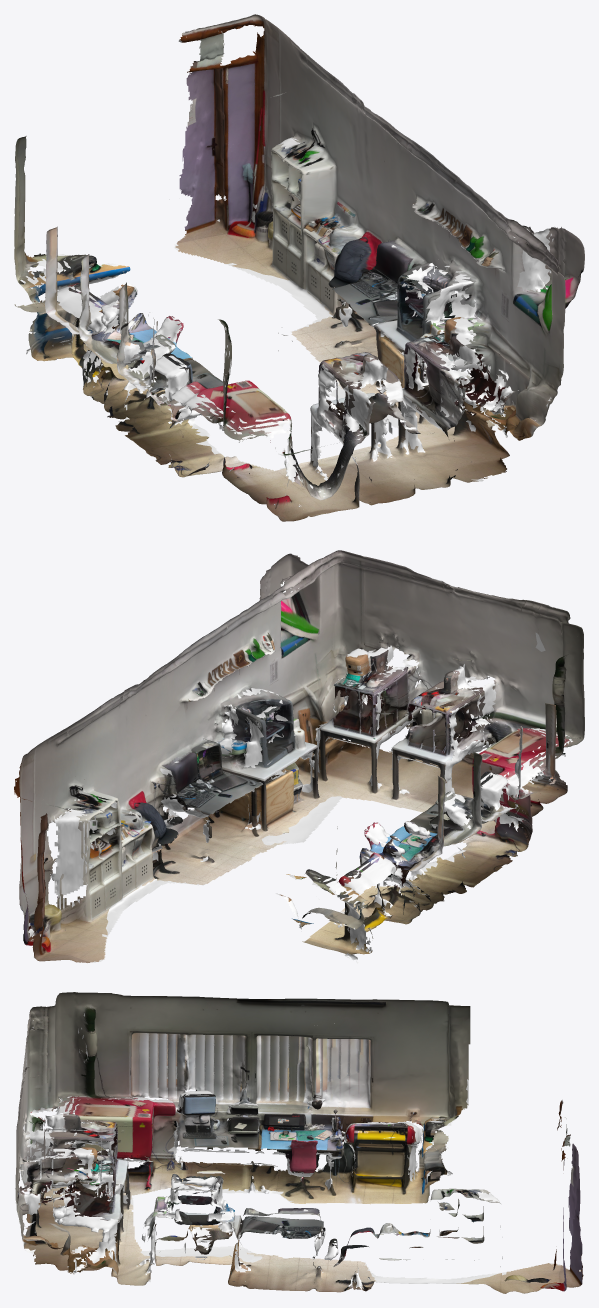
3 renders of one model, top to bottom at view 1: azimuth 30°, elevation 25°; view 2: azimuth 150°, elevation 25°; view 3: azimuth 270°, elevation 25°, orthographic. The views are drawn at different scales.
Parts seen in each view (by area): view 1: texture_0, texture_1, texture_4, object 1, texture_5, texture_3, texture_2; view 2: texture_1, texture_4, texture_2, texture_0, object 1, texture_5, texture_3; view 3: texture_2, texture_3, texture_5, texture_1, object 1, texture_4, texture_0.
Part boxes in pixels (box(x1,y1,x2,y2)): texture_0: box(179, 14, 491, 393); texture_1: box(175, 112, 563, 503); texture_4: box(316, 141, 584, 497); object 1: box(20, 31, 555, 506); texture_5: box(14, 255, 554, 515); texture_3: box(14, 136, 509, 521); texture_2: box(46, 226, 501, 516); texture_1: box(20, 615, 491, 962); texture_4: box(152, 550, 496, 863); texture_2: box(342, 578, 584, 891); texture_0: box(14, 619, 289, 946); object 1: box(28, 578, 572, 963); texture_5: box(280, 641, 565, 954); texture_3: box(306, 665, 567, 952); texture_2: box(18, 992, 387, 1246); texture_3: box(19, 997, 470, 1270); texture_5: box(21, 1092, 461, 1276); texture_1: box(15, 1097, 583, 1293); object 1: box(14, 1013, 580, 1289); texture_4: box(15, 1075, 314, 1285); texture_0: box(173, 1100, 582, 1293).
Size of the model in its own units: 4.67 by 2.69 by 7.86.
Materials: 7 (6 with a texture image).
